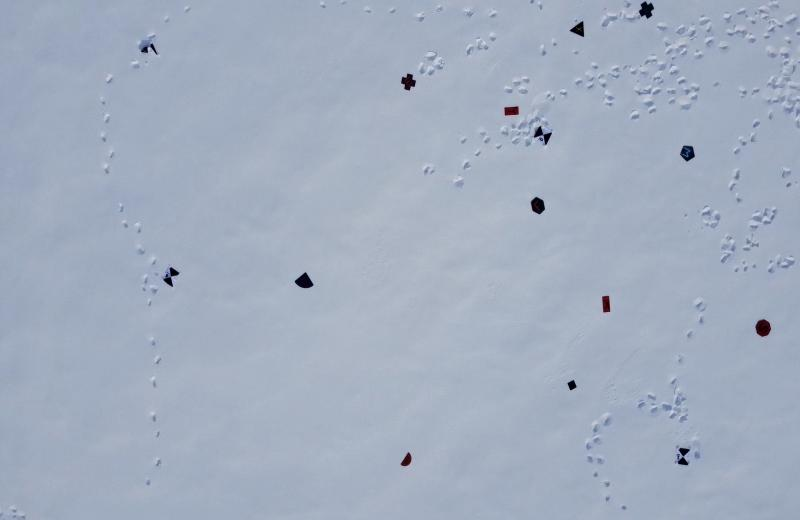Cross: (638, 0, 654, 19), (401, 73, 416, 91)
Hexagon: (531, 195, 546, 215)
Octagon: (755, 319, 771, 338)
Pentagon: (680, 144, 696, 164)
Quarter Circle: (295, 271, 315, 292)
Rectangle: (504, 105, 520, 118), (602, 295, 612, 313)
Semi Circle: (400, 450, 413, 466)
Square: (567, 379, 577, 391)
Triangle: (570, 20, 586, 40)
